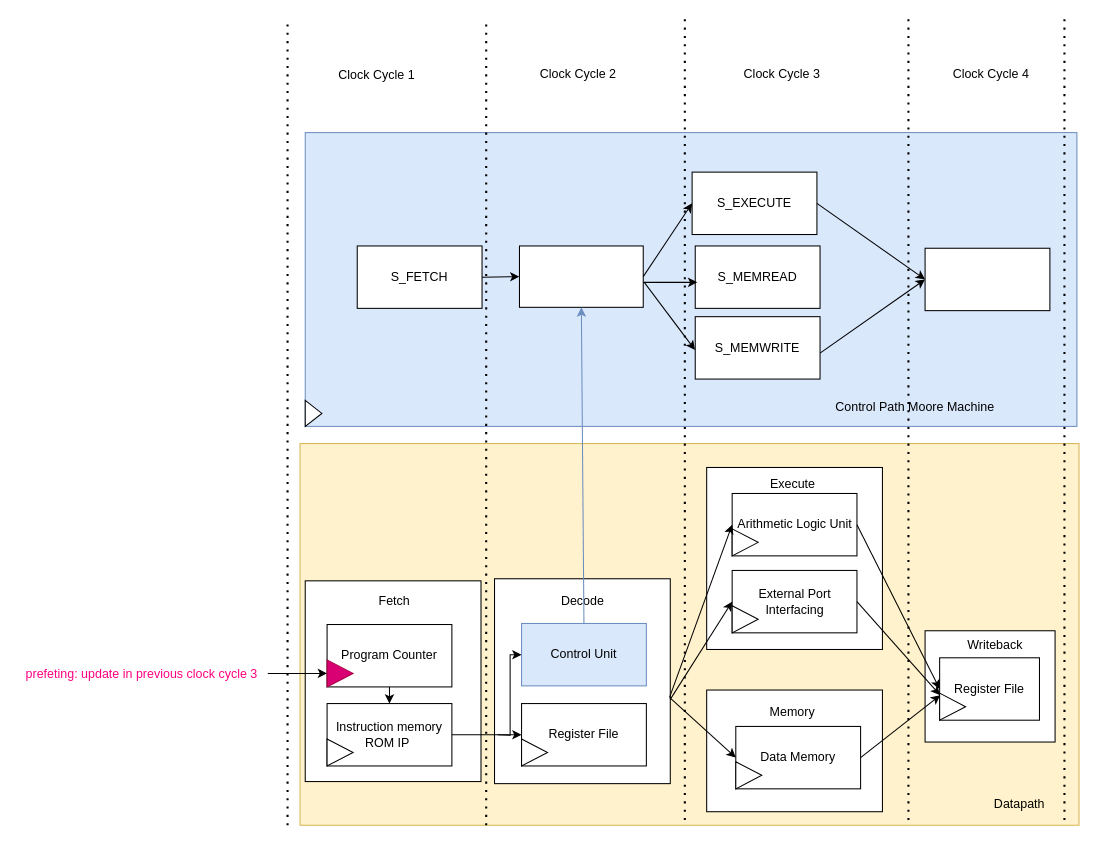
This 1097x844 diagram has some shape labels left out. Each missing label, with the centre of its shape:
S_DECODE: the point at 580,276
S_WRITEBACK: the point at 987,279
